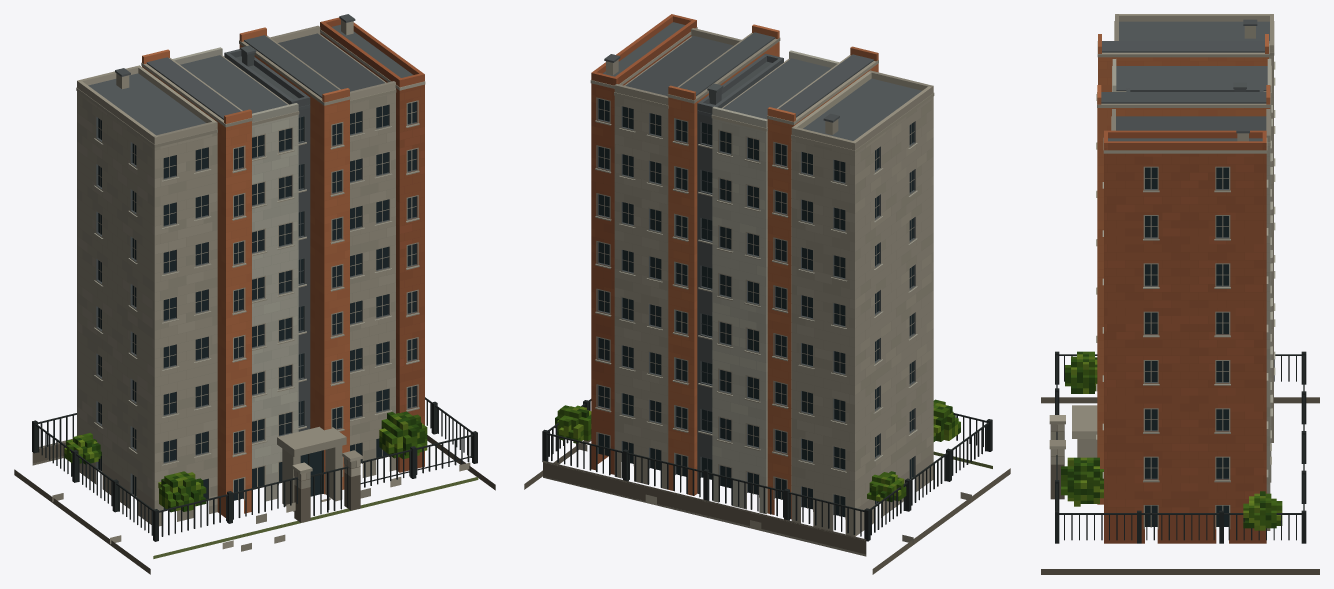
File: SM_StreetFrontage_125.fbx
3 renders of one model, left to right at view 1: azimuth 30°, elevation 25°; view 2: azimuth 150°, elevation 25°; view 3: azimuth 270°, elevation 25°, orthographic. The views are drawn at different scales.
Parts seen in each view (by area): view 1: SM_StreetFrontage_125; view 2: SM_StreetFrontage_125; view 3: SM_StreetFrontage_125.
Boxes of the visible parts, x1,y1,x2,y2 form: SM_StreetFrontage_125: [14, 14, 495, 574]; SM_StreetFrontage_125: [524, 14, 1010, 574]; SM_StreetFrontage_125: [1041, 14, 1319, 574].
Size of the model in its own units: 32 by 21.95 by 36.32.
